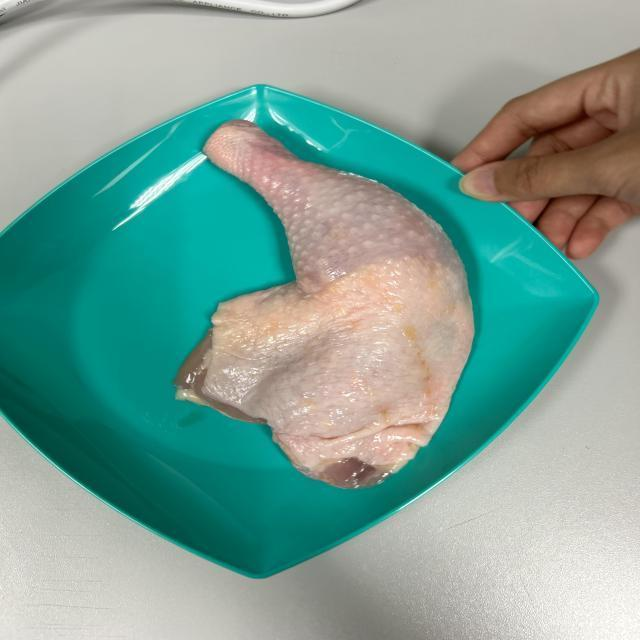quater: (198, 119, 470, 481)
